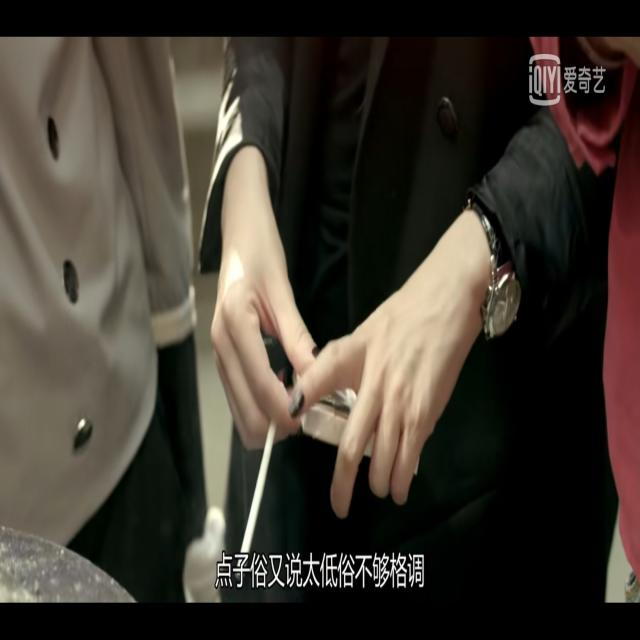smoke: (243, 419, 278, 560)
